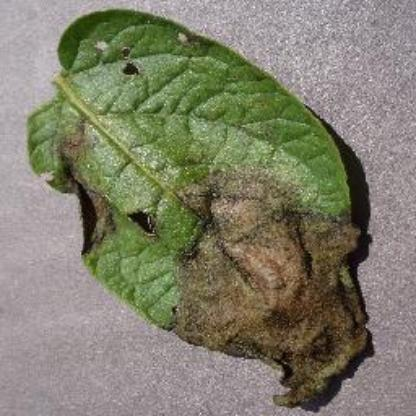Late-Blight: (21, 6, 393, 412)
